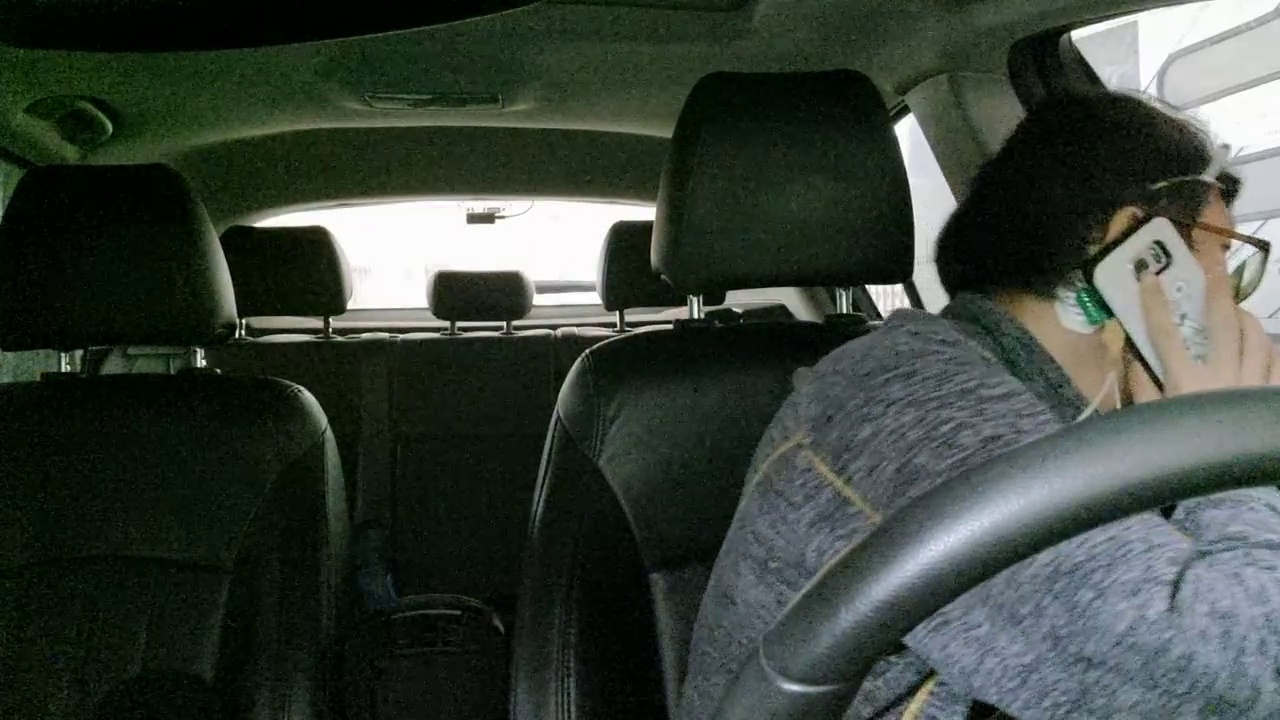phone: (1071, 193, 1250, 452)
